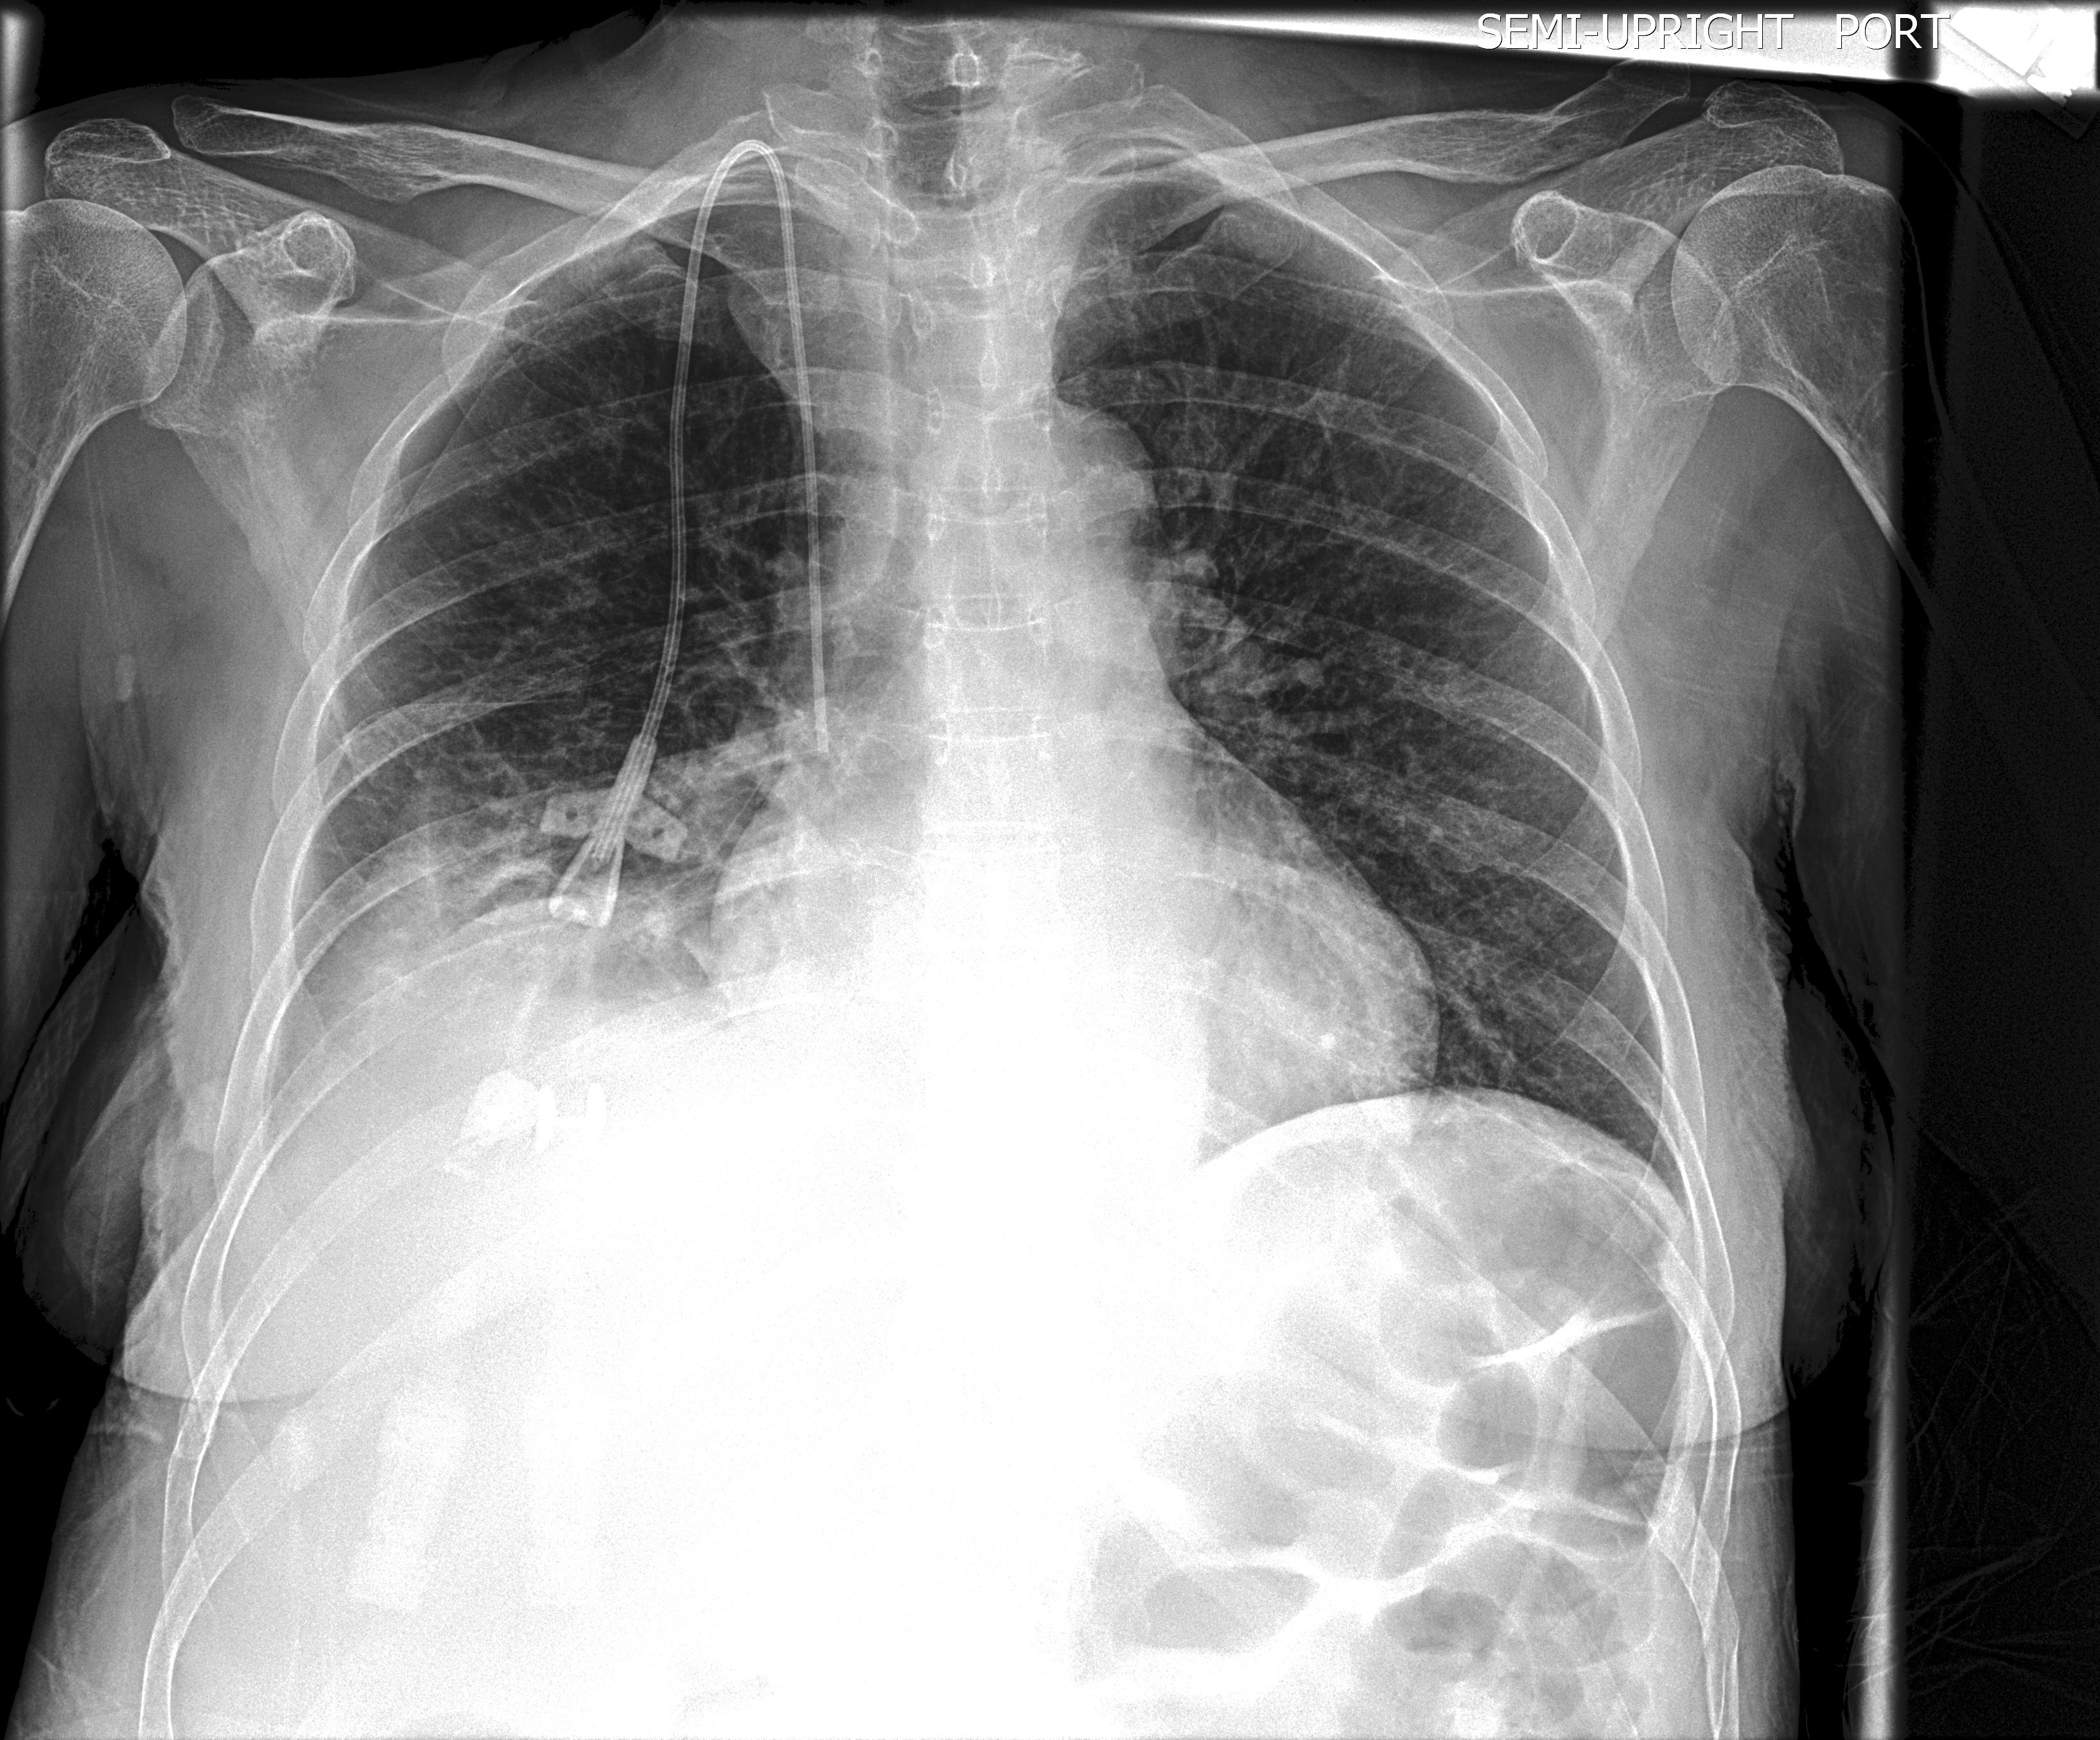Pleural Effusion: (213, 867, 551, 1367)
